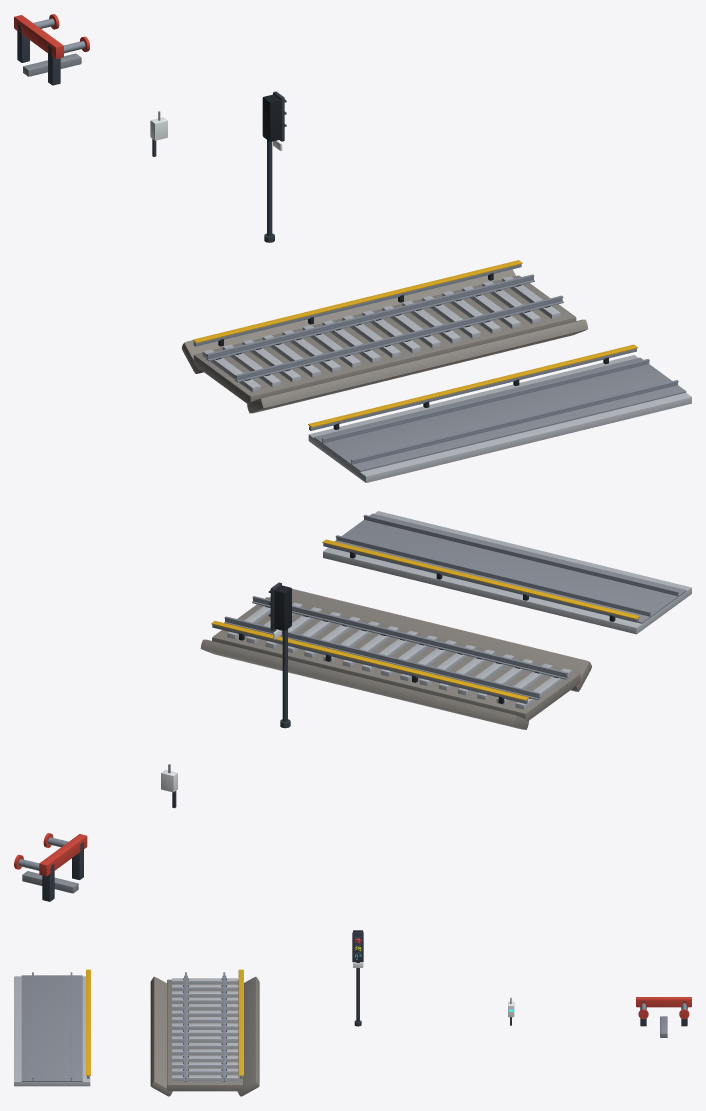
The model's file is track.glb.
3 views of the same model, one above another, from view 1: azimuth 30°, elevation 25°; view 2: azimuth 150°, elevation 25°; view 3: azimuth 270°, elevation 25° (orthographic). The views are drawn at different scales.
Parts seen in each view (by area): view 1: Track_Ballast, Track_Slab, Buffer_Stop, Signal_Mast; view 2: Track_Ballast, Track_Slab, Buffer_Stop, Signal_Mast; view 3: Track_Ballast, Track_Slab, Buffer_Stop, Signal_Mast.
Part boxes in pixels (left/top/right/bottom): Track_Ballast: left=181, top=260, right=587, bottom=413; Track_Slab: left=308, top=344, right=691, bottom=482; Buffer_Stop: left=14, top=14, right=89, bottom=85; Signal_Mast: left=262, top=91, right=286, bottom=242; Track_Ballast: left=200, top=588, right=591, bottom=729; Track_Slab: left=322, top=511, right=691, bottom=634; Buffer_Stop: left=14, top=833, right=87, bottom=901; Signal_Mast: left=268, top=582, right=291, bottom=728; Track_Ballast: left=150, top=969, right=259, bottom=1096; Track_Slab: left=14, top=969, right=90, bottom=1086; Buffer_Stop: left=636, top=997, right=691, bottom=1037; Signal_Mast: left=352, top=930, right=363, bottom=1026.
Bounding box in the file's own units: 9.8 × 4.97 × 26.6.
